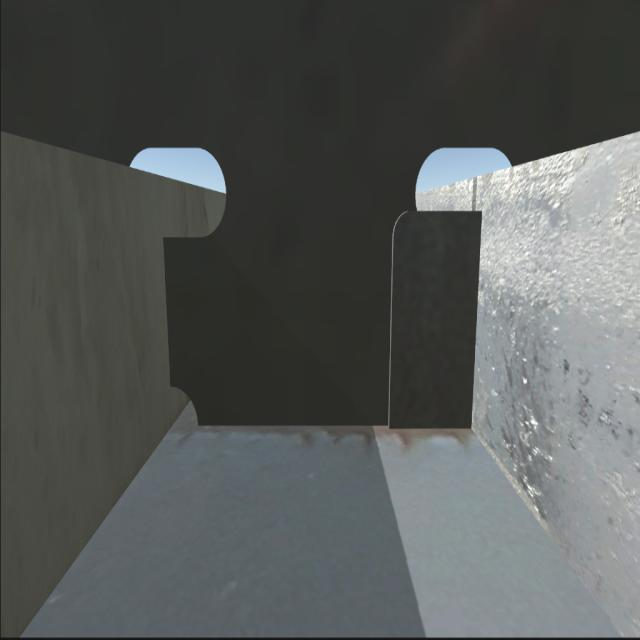fillet_hole: (170, 390, 200, 431)
fillet_yong_jeop_jang: (204, 423, 472, 432)
longi_yong_jeop_jang: (163, 244, 176, 386), (474, 216, 481, 434)
plate_CP05: (392, 212, 477, 430)
